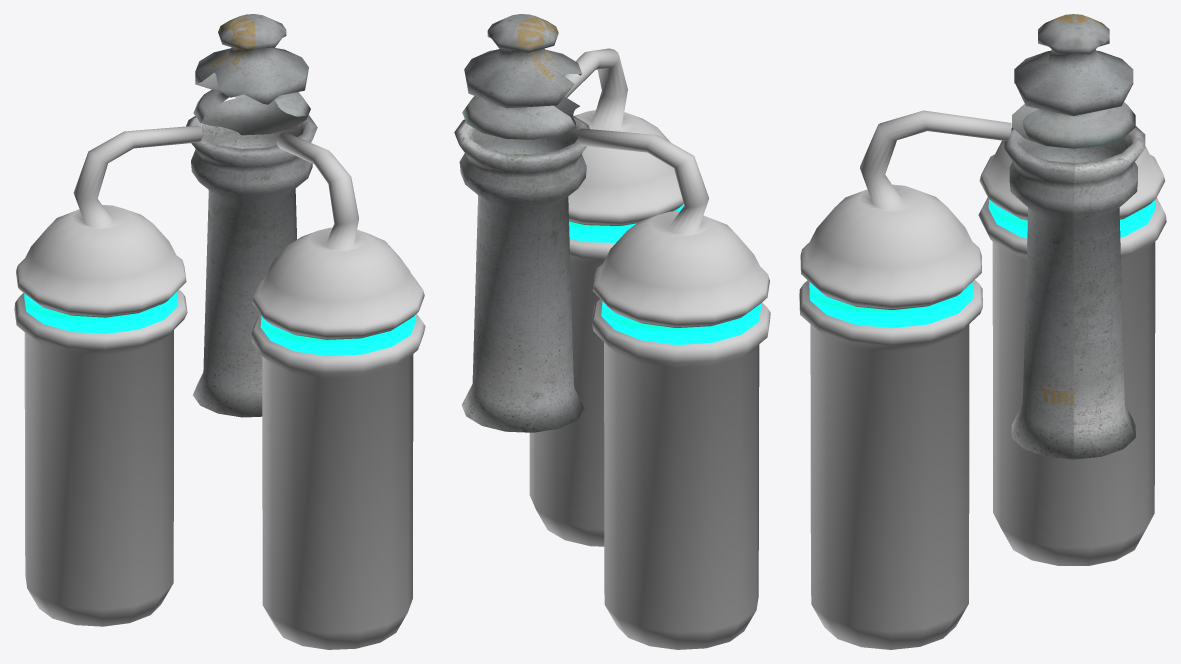
Rendered from economyECOState2.fbx.
3 renders of one model, left to right at view 1: azimuth 30°, elevation 25°; view 2: azimuth 150°, elevation 25°; view 3: azimuth 270°, elevation 25°, orthographic. The views are drawn at different scales.
Parts seen in each view (by area): view 1: Cylinder_001; view 2: Cylinder_001; view 3: Cylinder_001.
Boxes of the visible parts, x1,y1,x2,y2 form: Cylinder_001: (14, 14, 425, 649); Cylinder_001: (454, 14, 770, 649); Cylinder_001: (799, 14, 1166, 649).
Bounding box in the file's own units: 4.3 × 7.45 × 4.06.
